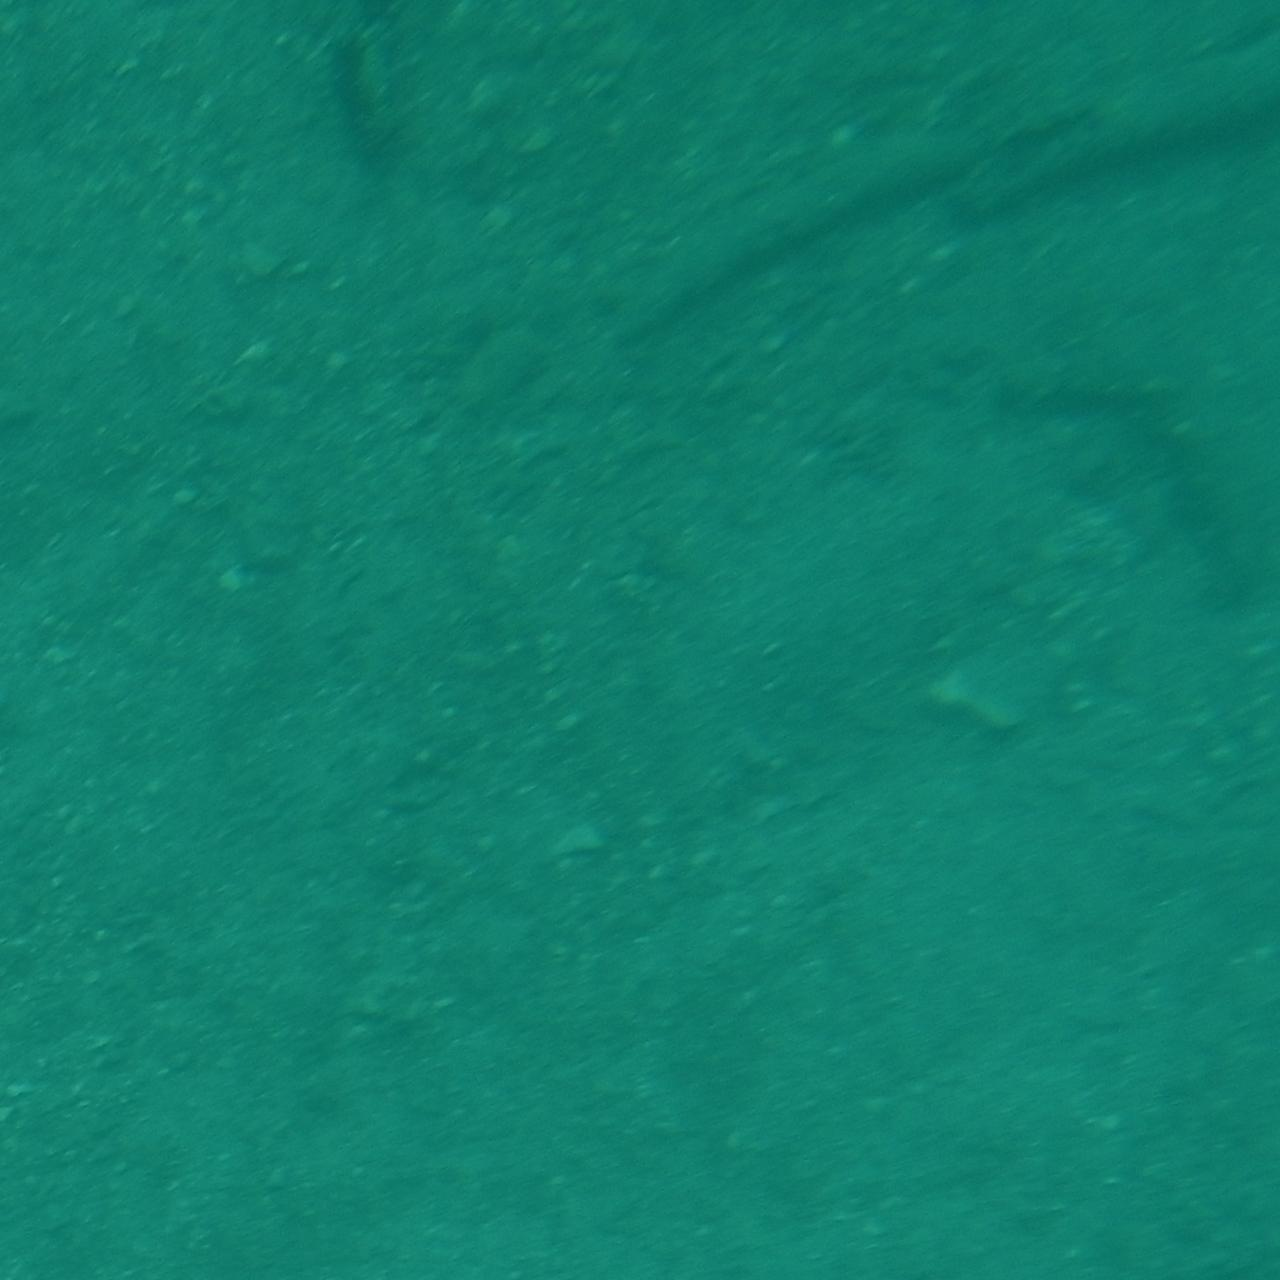Holothuria tubulosa: (610, 76, 949, 343)
